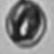correct: (3, 0, 48, 49)
